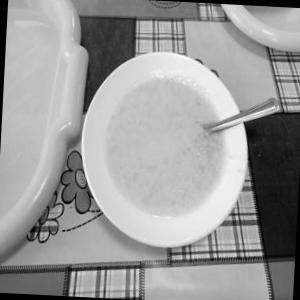porridge: (86, 72, 242, 224)
